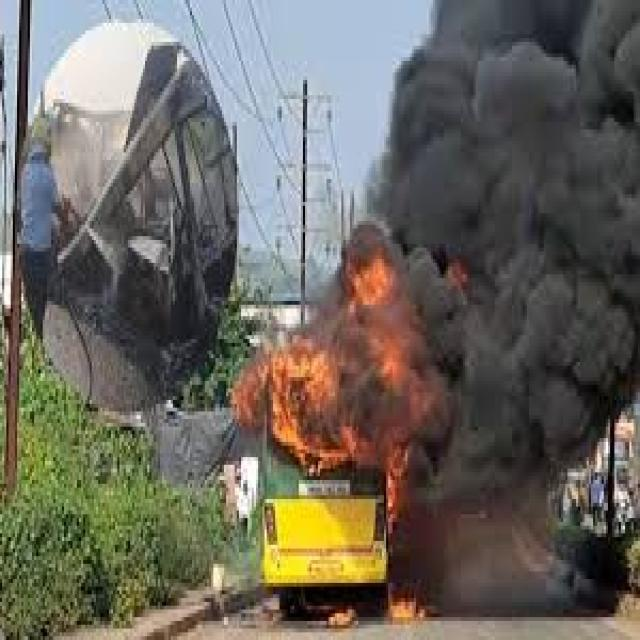Fire: (245, 255, 412, 468), (390, 595, 427, 624), (387, 468, 402, 536), (327, 608, 355, 628)
Smoke: (412, 2, 636, 404), (413, 408, 625, 499), (376, 61, 412, 255)
